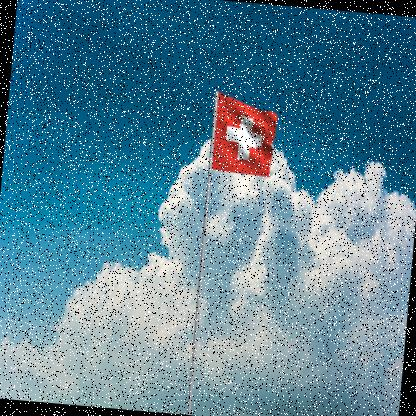ch: (213, 93, 281, 180)
